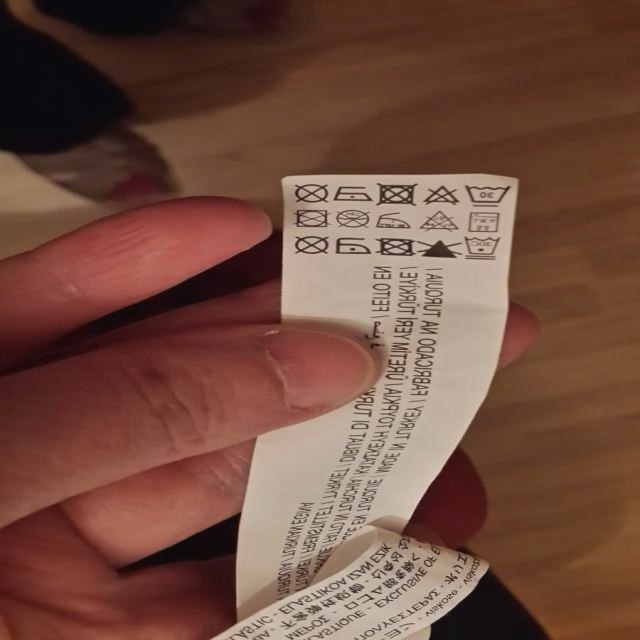30C: (463, 177, 509, 208), (463, 207, 501, 236), (461, 235, 499, 258)
DN_bleach: (422, 181, 461, 208), (420, 207, 460, 232), (419, 235, 459, 260)
DN_dry_clean: (291, 180, 331, 204), (290, 233, 329, 256), (334, 206, 370, 230)
DN_tumble_dry: (375, 181, 418, 208), (375, 233, 415, 258), (294, 204, 330, 228)
iron_low: (333, 180, 371, 204), (334, 233, 371, 256), (375, 210, 413, 232)
